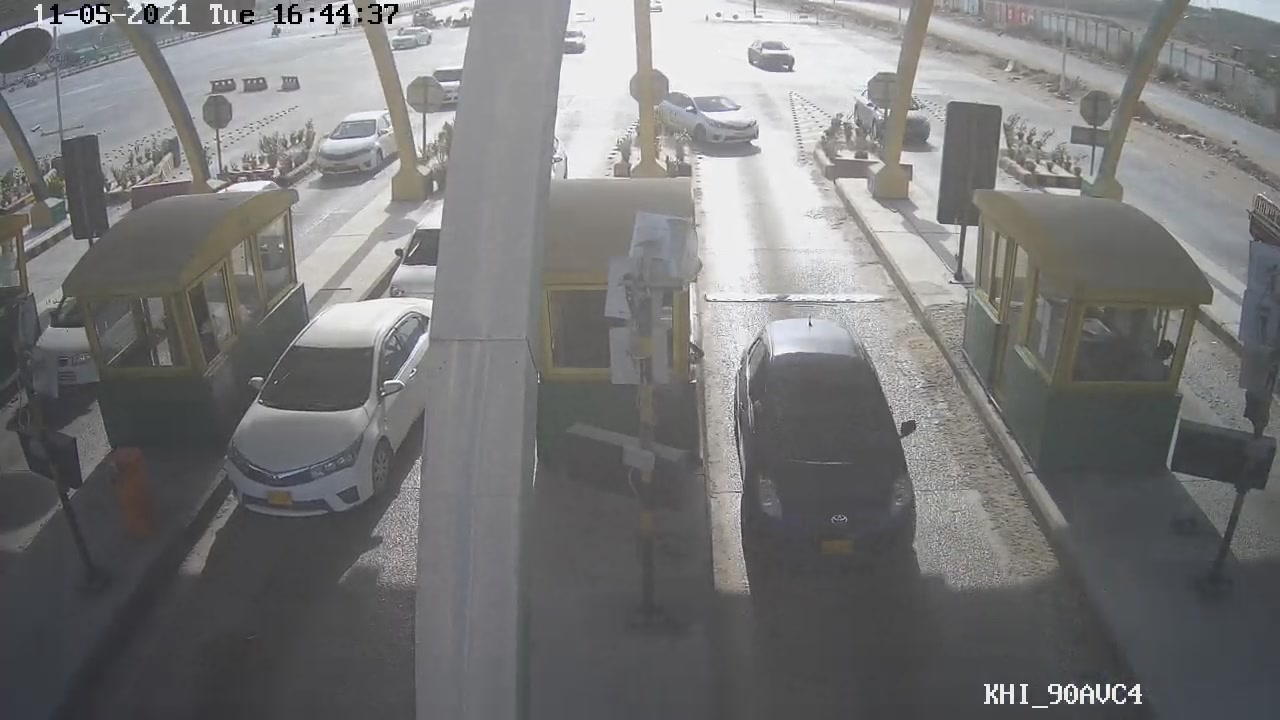F1: (720, 319, 932, 582)
